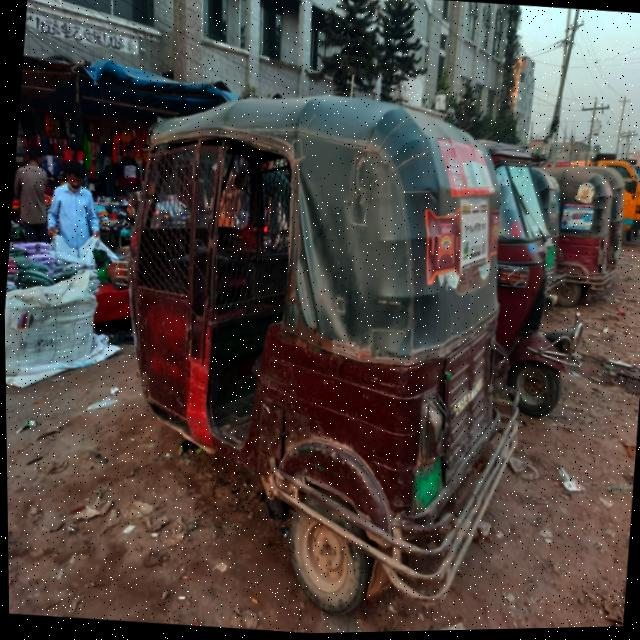cng: (87, 83, 525, 590)
